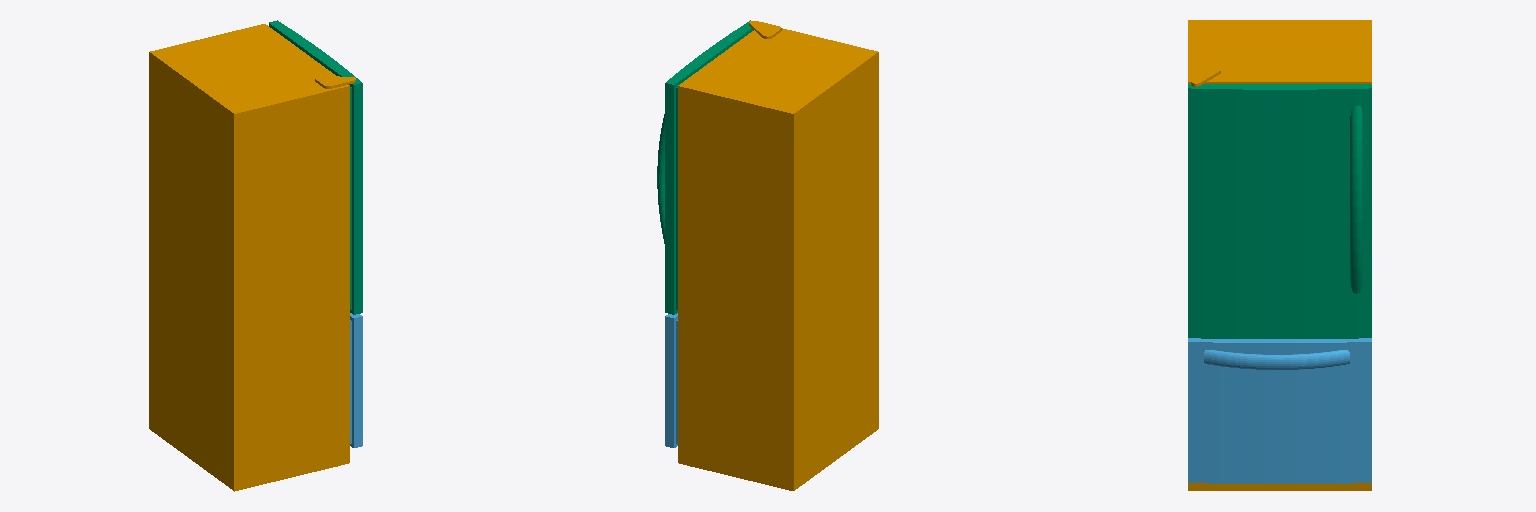
The robot description file, URDF, robot "predicted_refrigerator":
<?xml version="1.0"?>
<robot name="predicted_refrigerator">
  <link name="base_link">
    <visual>
      <geometry>
        <mesh filename="meshes/part_02.stl"/>
      </geometry>
    </visual>
  </link>
  <link name="link_manualv2_1777936628187_J0">
    <visual>
      <origin xyz="-0.1229 0.0605 0.4437" rpy="0 0 0"/>
      <geometry>
        <mesh filename="meshes/part_00.stl"/>
      </geometry>
    </visual>
  </link>
  <joint name="joint_manualv2_1777936628187_J0" type="revolute">
    <parent link="base_link"/>
    <child link="link_manualv2_1777936628187_J0"/>
    <origin xyz="0.1229 -0.0605 -0.4437" rpy="0 0 0"/>
    <axis xyz="-0.0257 0.9995 0.0159"/>
    <limit lower="0.0" upper="1.5708" effort="1000" velocity="1.0"/>
  </joint>
  <link name="link_manualv2_1777936628187_J1">
    <visual>
      <origin xyz="-0.1233 -0.1898 -0.3381" rpy="0 0 0"/>
      <geometry>
        <mesh filename="meshes/part_01.stl"/>
      </geometry>
    </visual>
  </link>
  <joint name="joint_manualv2_1777936628187_J1" type="revolute">
    <parent link="base_link"/>
    <child link="link_manualv2_1777936628187_J1"/>
    <origin xyz="0.1233 0.1898 0.3381" rpy="0 0 0"/>
    <axis xyz="-0.0134 -0.0081 0.9999"/>
    <limit lower="0.0" upper="1.5708" effort="1000" velocity="1.0"/>
  </joint>
</robot>

--- Facts derived from the render (not from the file) ---
3 views of the same robot in one strip: view 1: azimuth 30°, elevation 25°; view 2: azimuth 150°, elevation 25°; view 3: azimuth 270°, elevation 25° (orthographic).
Robot: predicted_refrigerator — 3 links, 2 joints (2 revolute); root link base_link; default pose: every joint at zero.
Visible links, largest first — view 1: base_link, link_manualv2_1777936628187_J1, link_manualv2_1777936628187_J0; view 2: base_link, link_manualv2_1777936628187_J1, link_manualv2_1777936628187_J0; view 3: link_manualv2_1777936628187_J1, link_manualv2_1777936628187_J0, base_link.
Link boxes in pixels (x1,y1,x2,y2): base_link: [149, 24, 355, 491]; link_manualv2_1777936628187_J1: [269, 20, 362, 314]; link_manualv2_1777936628187_J0: [350, 313, 362, 447]; base_link: [678, 21, 878, 490]; link_manualv2_1777936628187_J1: [657, 20, 753, 314]; link_manualv2_1777936628187_J0: [665, 313, 677, 447]; link_manualv2_1777936628187_J1: [1188, 84, 1371, 338]; link_manualv2_1777936628187_J0: [1188, 338, 1371, 483]; base_link: [1188, 20, 1371, 490].
Bounding box of the posed robot: 0.3902 × 0.4032 × 1 m (x, y, z).
Meshes: 3 distinct files referenced, 3 mesh visuals loaded (3 binary STL).
